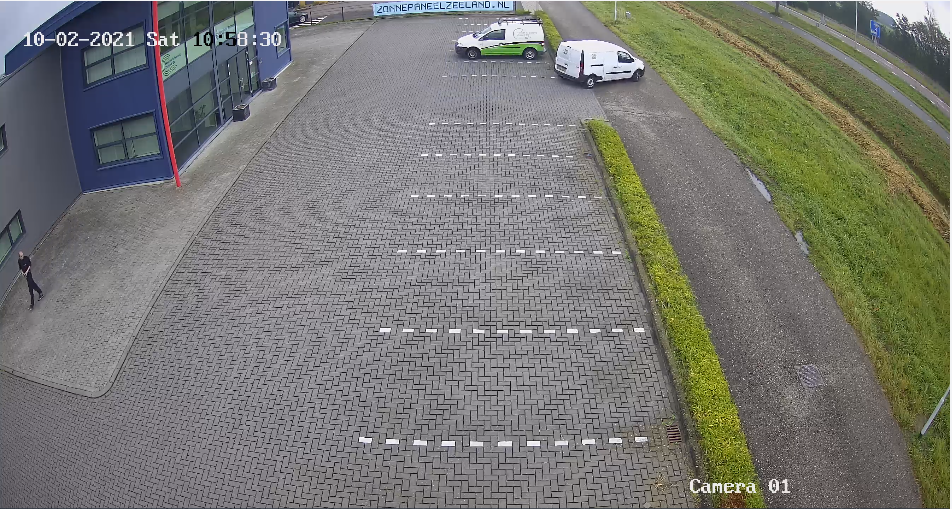werkbus: (549, 35, 654, 92), (449, 13, 550, 63)
